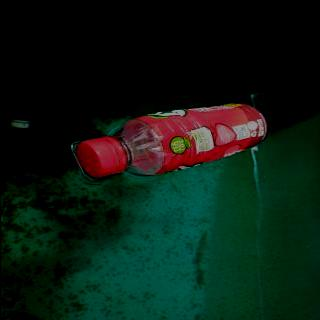bottle: (70, 103, 270, 180)
